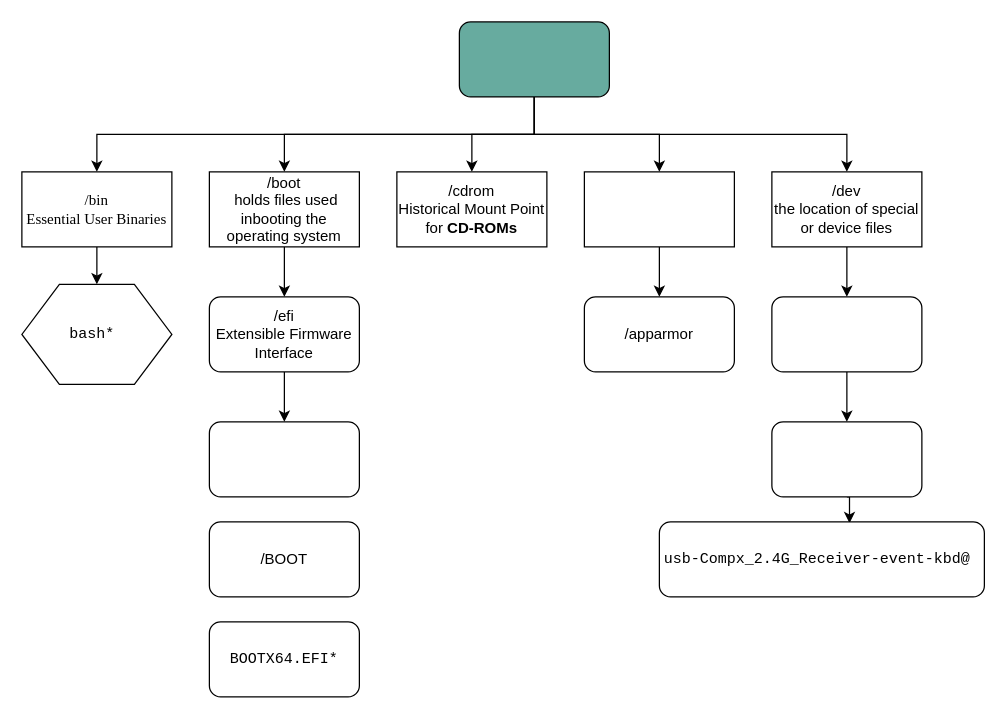
This 1006x719 diagram has some shape labels left out. Here are the shapes that lost their labels. From the top down, the centre of each, then its label:
(x=533, y=59): / ROOT
(x=658, y=209): /lib contains all helpful library files used by the system
(x=846, y=334): /input
(x=283, y=459): /EFI
(x=846, y=459): /by-id
